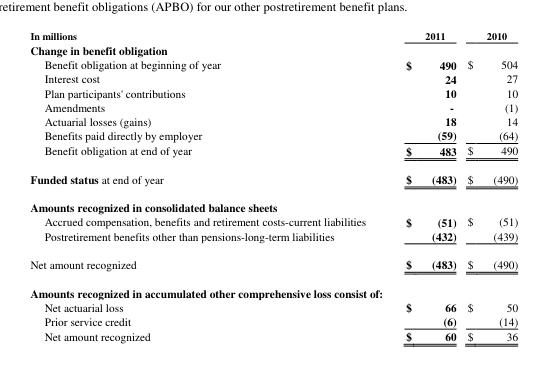table: (29, 28, 517, 344)
table column: (29, 28, 385, 344), (385, 28, 461, 344), (461, 28, 517, 344)
table column header: (29, 28, 517, 42)
table projected row header: (29, 193, 517, 214), (29, 278, 517, 299), (29, 42, 517, 57)
table row: (29, 164, 517, 193), (29, 249, 517, 278), (29, 142, 517, 164), (29, 193, 517, 214), (29, 228, 517, 249), (29, 278, 517, 299), (29, 328, 517, 344), (29, 42, 517, 57), (29, 99, 517, 114), (29, 313, 517, 328), (29, 28, 517, 42), (29, 57, 517, 71), (29, 71, 517, 85), (29, 85, 517, 99), (29, 114, 517, 128), (29, 128, 517, 142), (29, 214, 517, 228), (29, 299, 517, 313)
